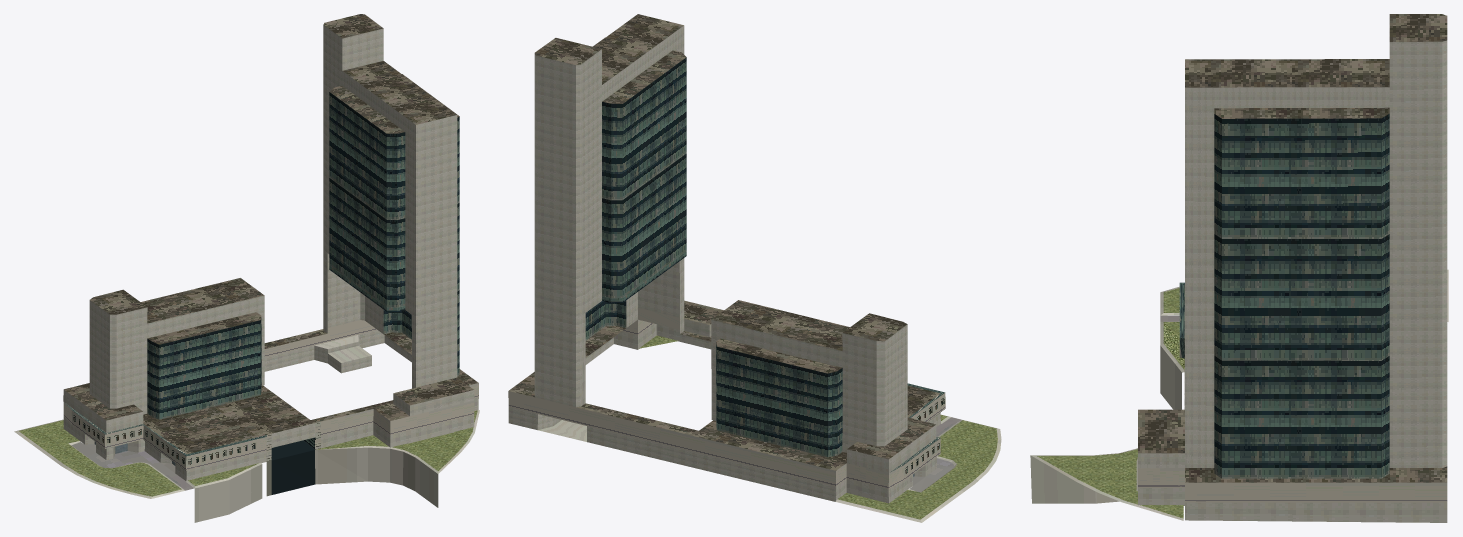
The model's file is lod_corpbuild3.obj.
3 views of the same model, side by side, from view 1: azimuth 30°, elevation 25°; view 2: azimuth 150°, elevation 25°; view 3: azimuth 270°, elevation 25° (orthographic). The views are drawn at different scales.
Visible parts, largest first — view 1: lod_corpbuild3; view 2: lod_corpbuild3; view 3: lod_corpbuild3.
Boxes of the visible parts, bbox=[...] form: lod_corpbuild3: bbox=[14, 14, 479, 522]; lod_corpbuild3: bbox=[508, 14, 1001, 522]; lod_corpbuild3: bbox=[1030, 14, 1448, 522].
Size of the model in its own units: 180 by 171 by 126.
Materials: 7 (7 with a texture image).
